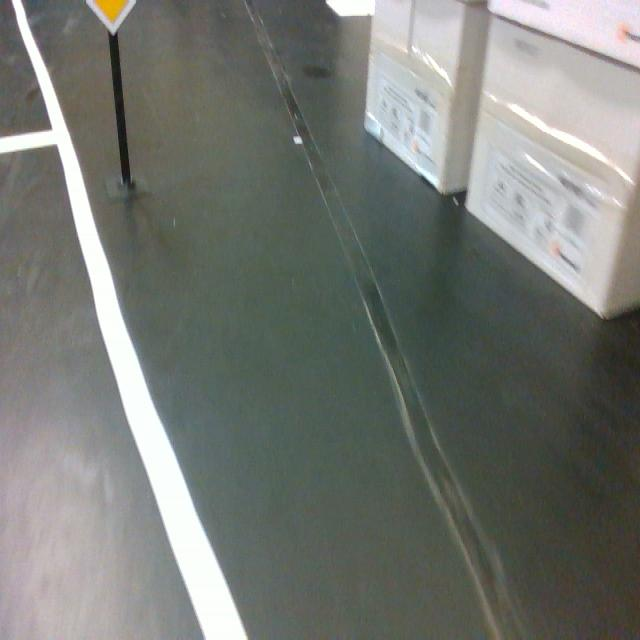priority-sign: (84, 0, 138, 37)
